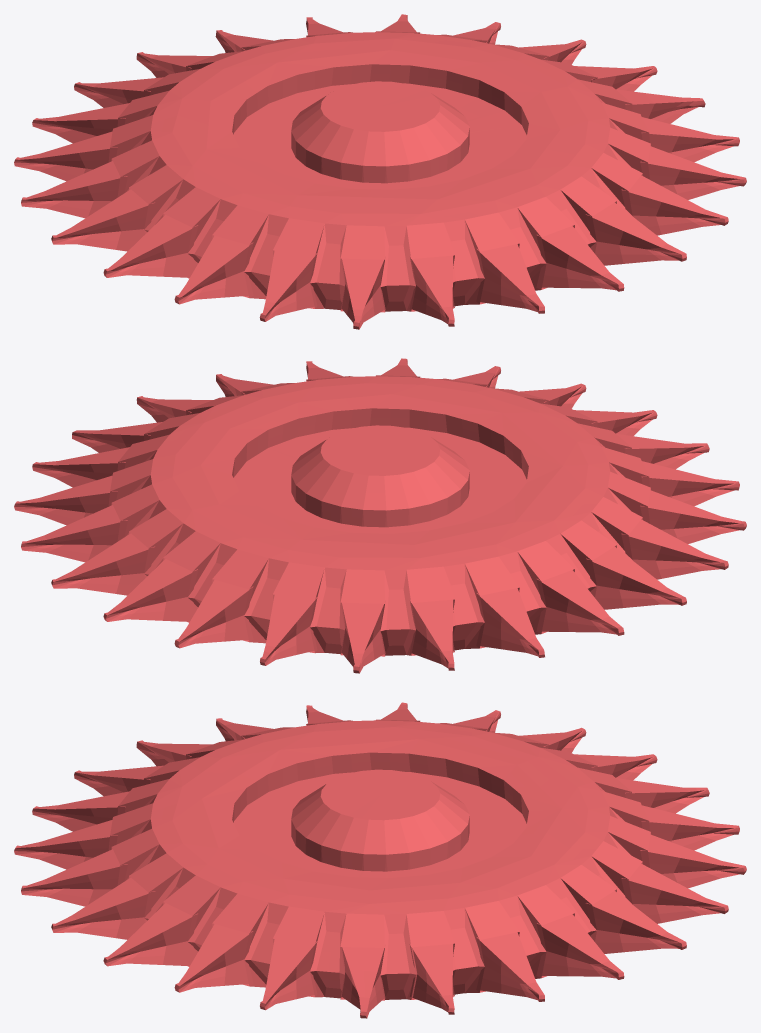
File: testere.fbx
3 views of the same model, one above another, from view 1: azimuth 30°, elevation 25°; view 2: azimuth 150°, elevation 25°; view 3: azimuth 270°, elevation 25° (orthographic).
Visible parts, largest first — view 1: Torus; view 2: Torus; view 3: Torus.
Boxes of the visible parts, <box> form: Torus: <box>14,14,746,329</box>; Torus: <box>14,358,746,673</box>; Torus: <box>14,702,746,1018</box>.
Bounding box in the file's own units: 335 × 66.28 × 336.
